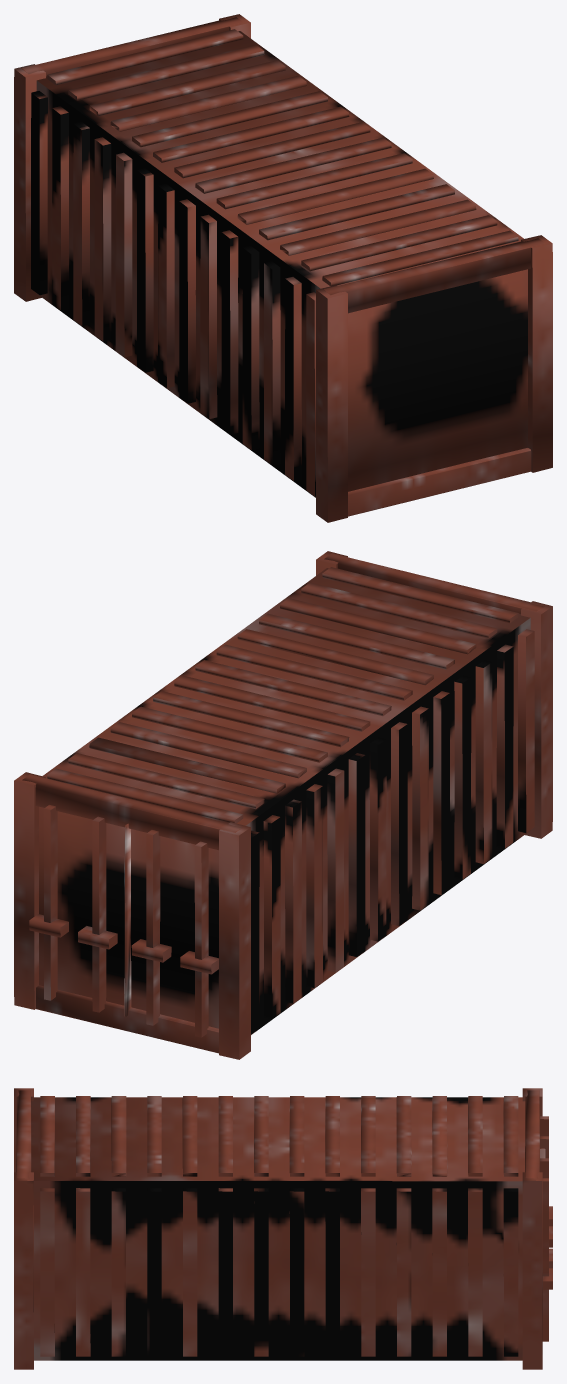
Rendered from Contenedor_Rojo.fbx.
3 views of the same model, one above another, from view 1: azimuth 30°, elevation 25°; view 2: azimuth 150°, elevation 25°; view 3: azimuth 270°, elevation 25° (orthographic). The views are drawn at different scales.
Visible parts, largest first — view 1: Contenedor_Rojo; view 2: Contenedor_Rojo; view 3: Contenedor_Rojo.
Boxes of the visible parts, x1,y1,x2,y2 form: Contenedor_Rojo: (14, 14, 552, 522); Contenedor_Rojo: (14, 551, 552, 1059); Contenedor_Rojo: (14, 1088, 552, 1369).
Bounding box in the file's own units: 4.18 × 4 × 10.28.
